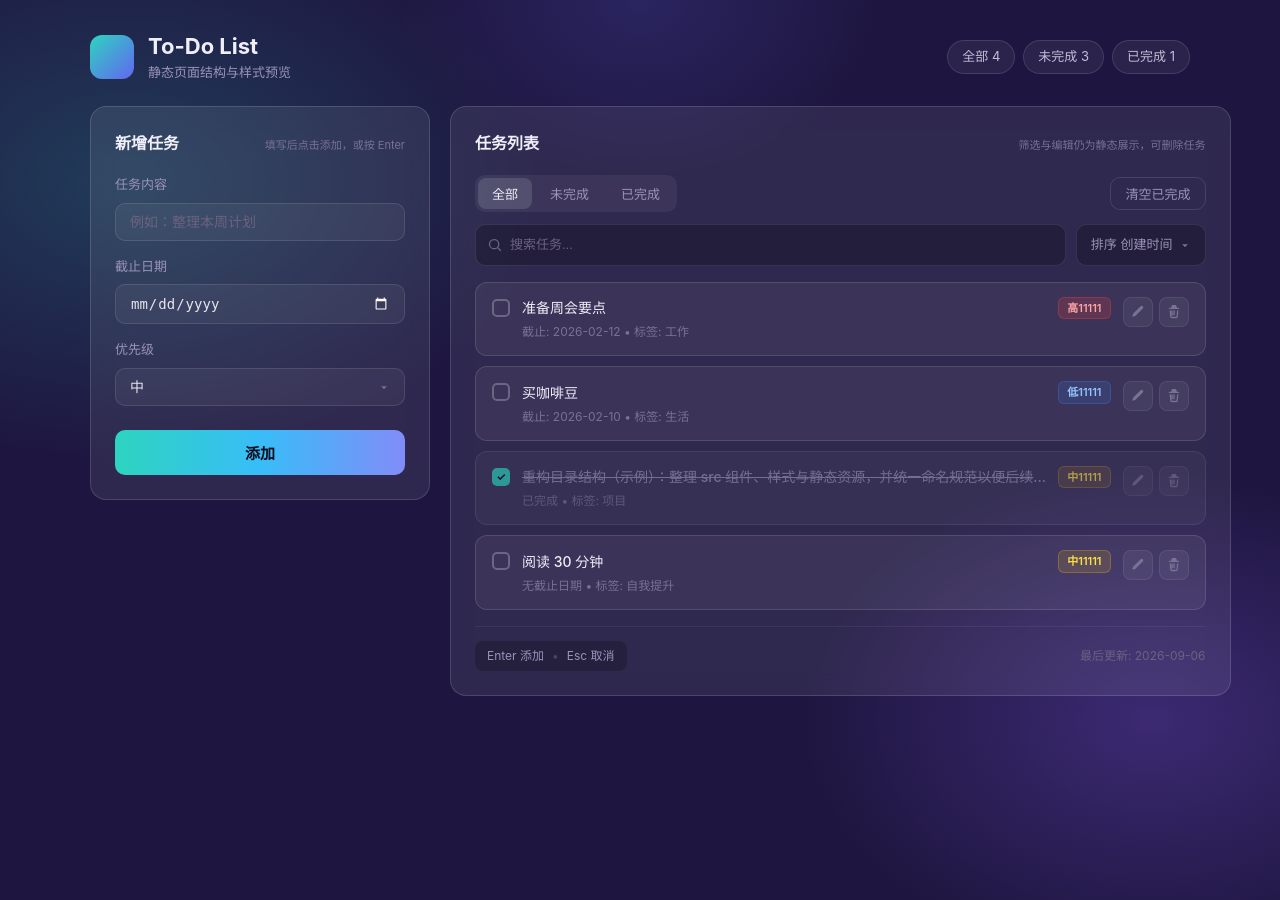
Test: TodoList › 确认删除后移除任务并显示 toast
Click the button named "删除" in the row of "准备周会要点" at [1174, 312], box x1=1158 y1=297 x2=1188 y2=327
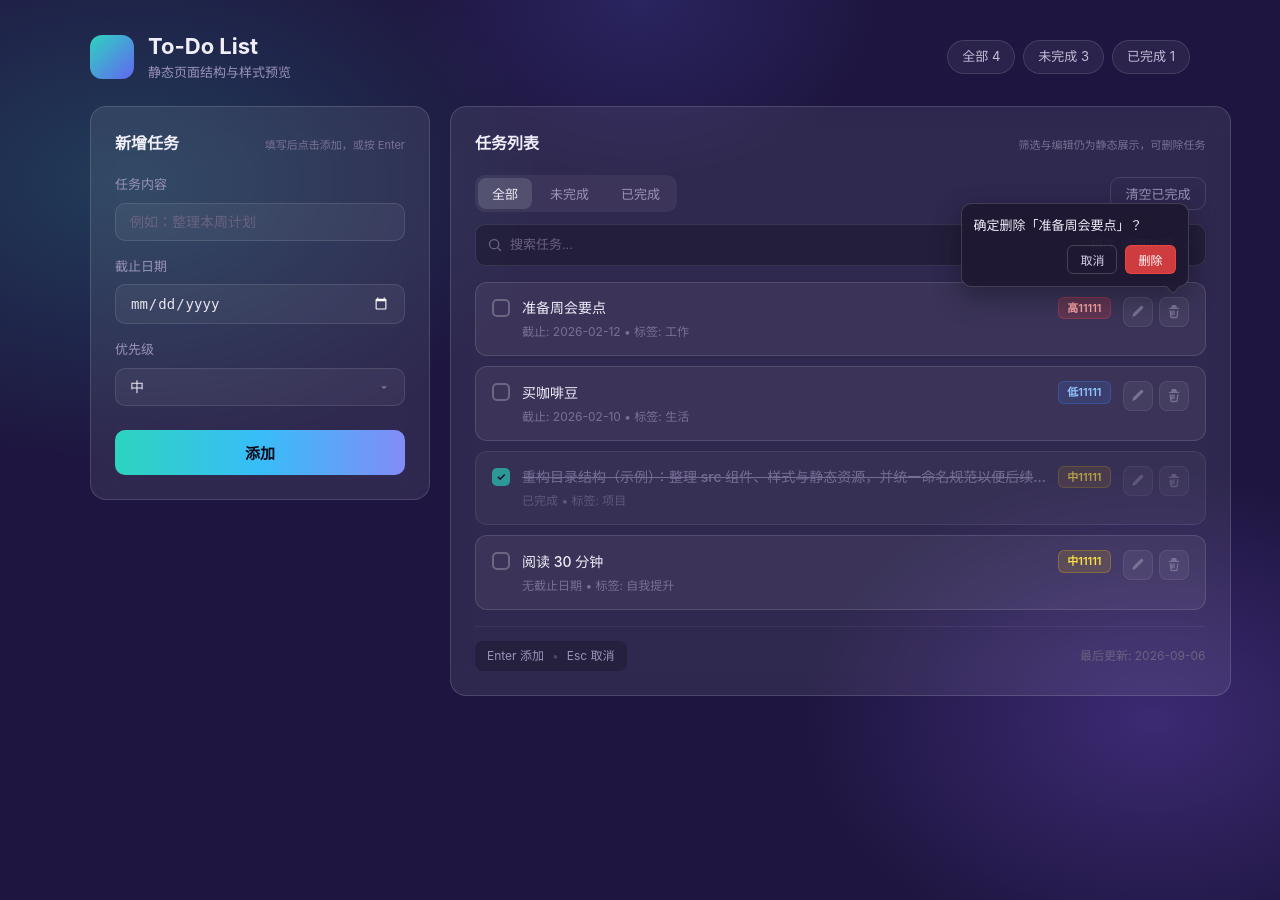
Expected: the dialog named "确认删除" is shown, x1=960 y1=203 x2=1188 y2=287
Click the button with class "bubble-btn-confirm" at [1150, 259], box x1=1126 y1=245 x2=1176 y2=274
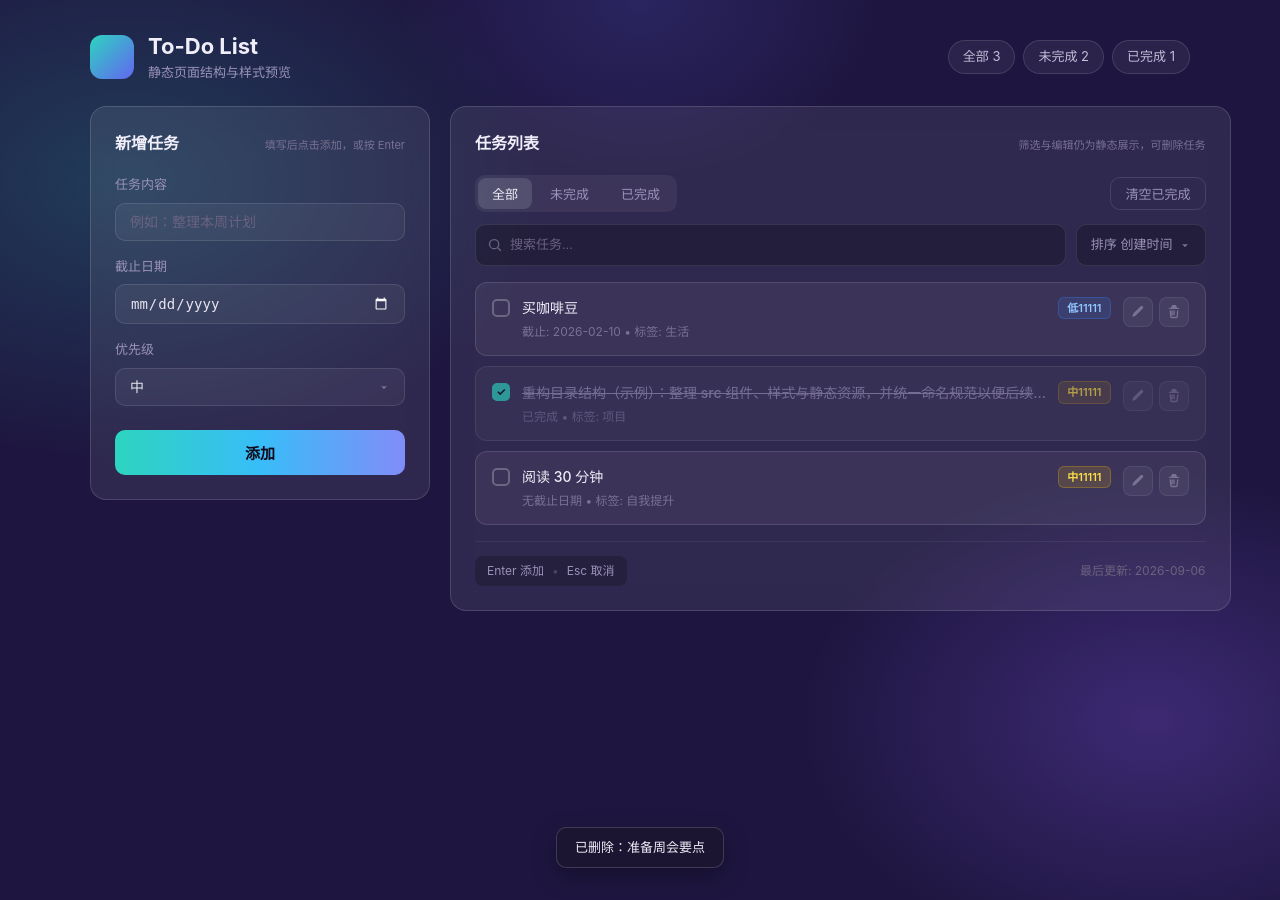
Expected: the number of list items with class "task-item" is 3, x1=475 y1=282 x2=1206 y2=356; x1=475 y1=366 x2=1206 y2=441; x1=475 y1=451 x2=1206 y2=525
Expected: the message with class "toast" reads "已删除：准备周会要点", x1=575 y1=838 x2=705 y2=854
Expected: the text "全部 3" is shown, x1=948 y1=40 x2=1016 y2=74
